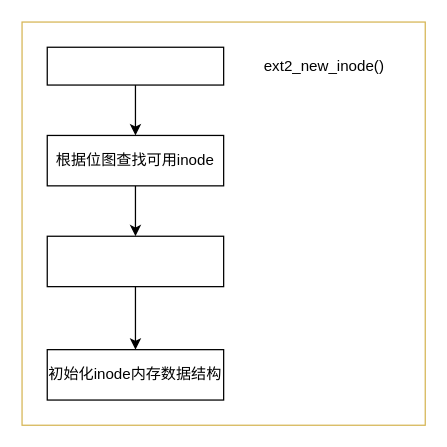
Some shapes in this 447 by 447 pixel diagram are drawn without their labels. Each missing label, with the box of its shape:
分配内存数据结构: (46, 46, 224, 85)
查找成功标记为已使用: (46, 235, 224, 287)
